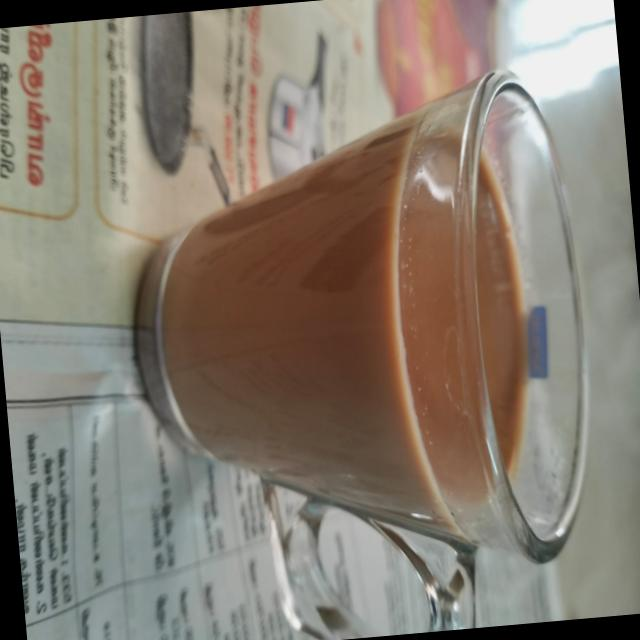glass-VX4N: (112, 66, 608, 640)
